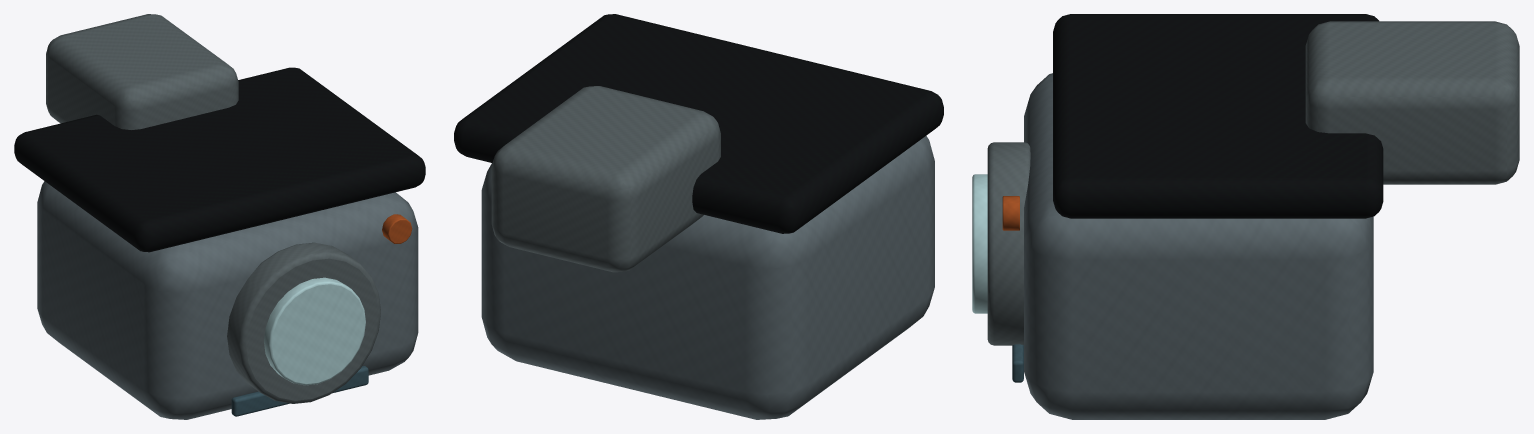
The model's file is SecurityCamera.fbx.
3 views of the same model, side by side, from view 1: azimuth 30°, elevation 25°; view 2: azimuth 150°, elevation 25°; view 3: azimuth 270°, elevation 25° (orthographic). The views are drawn at different scales.
Parts seen in each view (by area): view 1: SecurityCamera_Mesh; view 2: SecurityCamera_Mesh; view 3: SecurityCamera_Mesh.
Boxes of the visible parts, box(x1,y1,x2,y2) form: SecurityCamera_Mesh: box(14, 14, 425, 419); SecurityCamera_Mesh: box(454, 14, 943, 419); SecurityCamera_Mesh: box(972, 14, 1519, 419).
Size of the model in its own units: 43 by 34.5 by 56.3.
